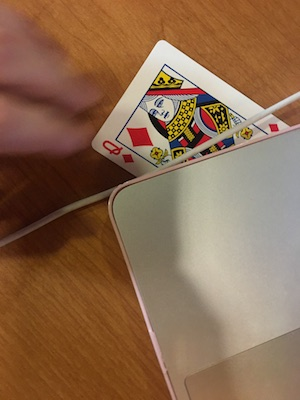QueenOfDiamonds: (76, 35, 293, 184)
